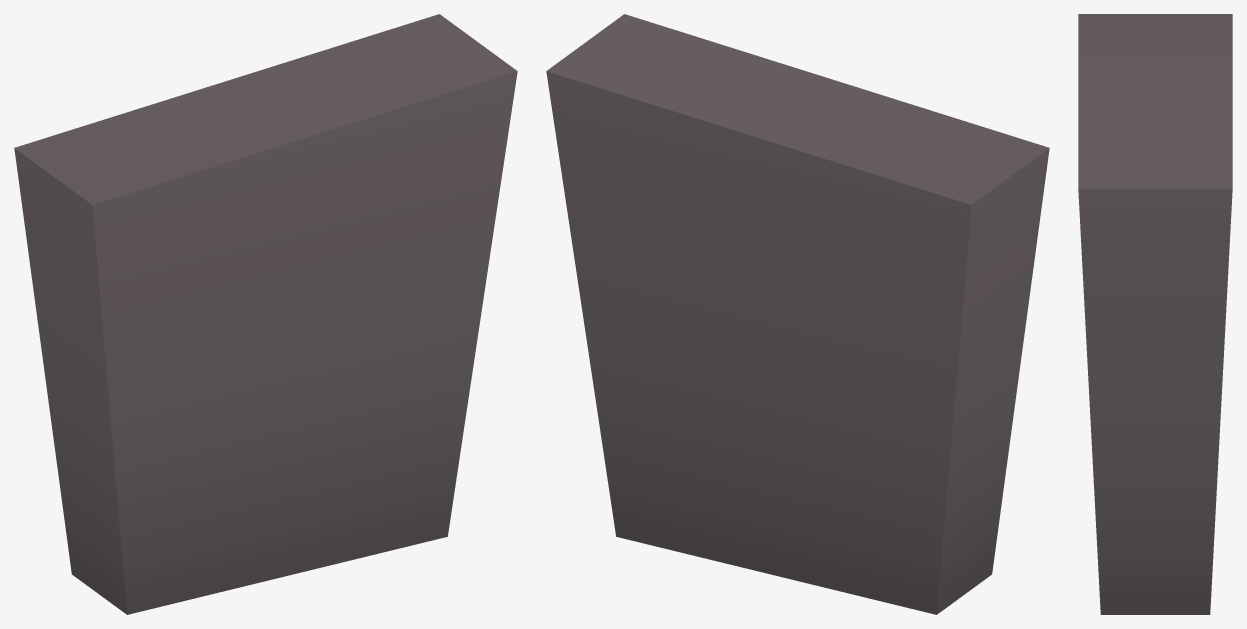
Rendered from village_town_tombstone_2.glb.
3 renders of one model, left to right at view 1: azimuth 30°, elevation 25°; view 2: azimuth 150°, elevation 25°; view 3: azimuth 270°, elevation 25°, orthographic.
Visible parts, largest first — view 1: Tombstone_2.001_Material.005_0; view 2: Tombstone_2.001_Material.005_0; view 3: Tombstone_2.001_Material.005_0.
Boxes of the visible parts, x1,y1,x2,y2 form: Tombstone_2.001_Material.005_0: [14, 14, 517, 614]; Tombstone_2.001_Material.005_0: [546, 14, 1049, 614]; Tombstone_2.001_Material.005_0: [1078, 14, 1232, 614].
Bounding box in the file's own units: 1.03 × 1.06 × 0.3274.
1 material, 1 textured.
